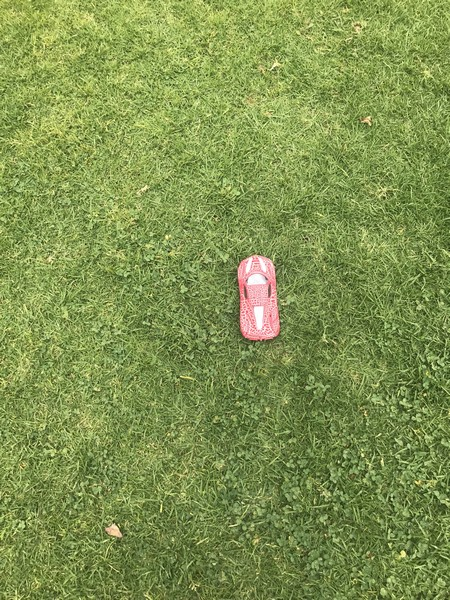RC: (236, 254, 284, 345)
